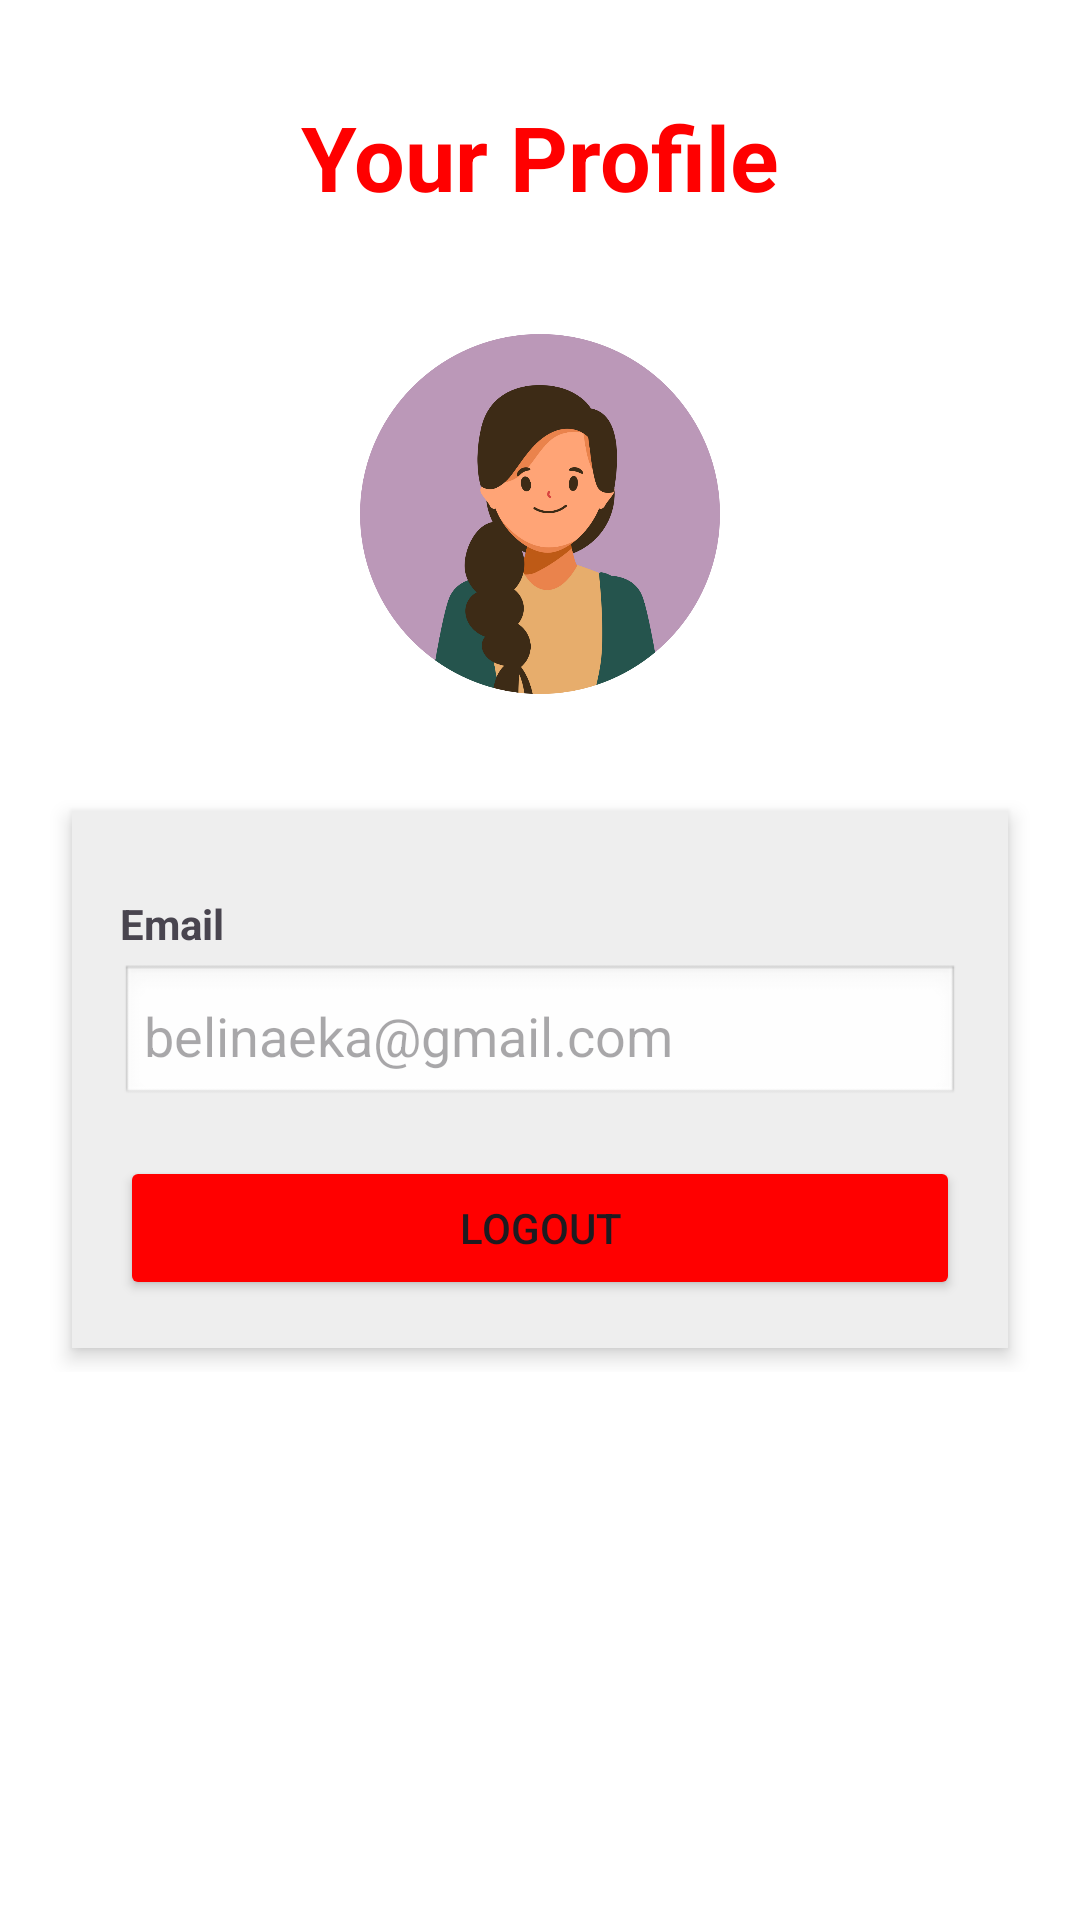

Icon bounding boxes for this 1080px×1920px phone screenshot, format (x1, y1, x2, y2):
Foto Profil: (360, 334, 720, 694)
